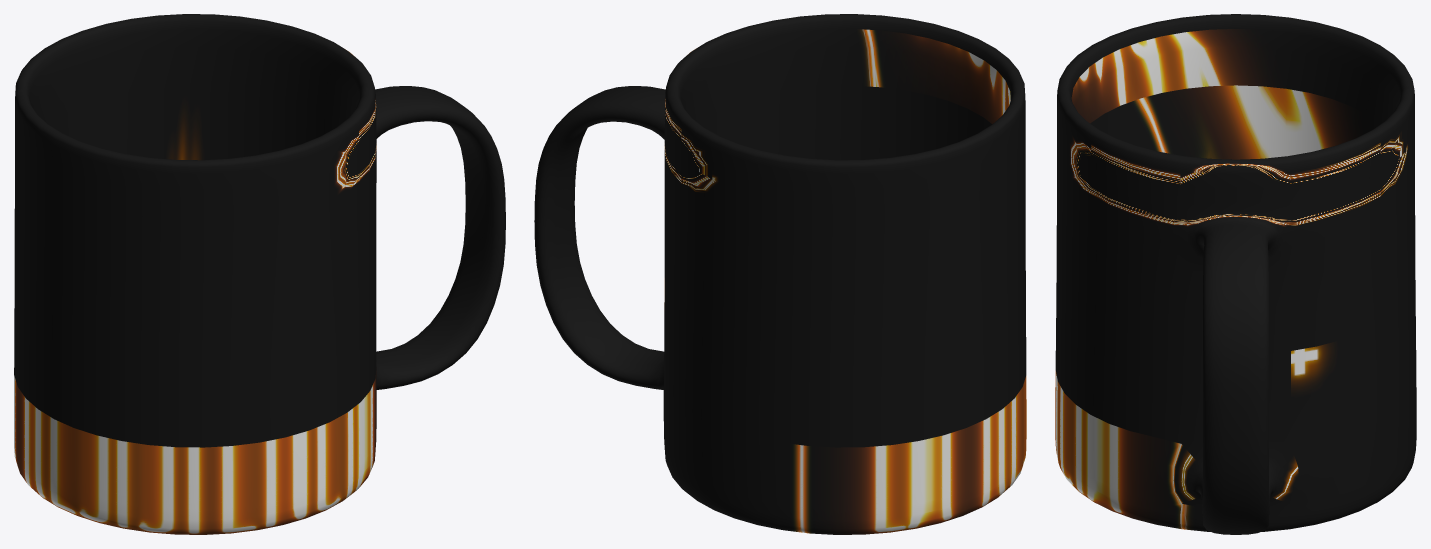
Rendered from SM_Taza_LaResistencia.fbx.
The picture shows the model from 3 angles, left to right: view 1: azimuth 30°, elevation 25°; view 2: azimuth 150°, elevation 25°; view 3: azimuth 270°, elevation 25°; orthographic projection.
Parts seen in each view (by area): view 1: Blender Mug; view 2: Blender Mug; view 3: Blender Mug.
Boxes of the visible parts, box(x1,y1,x2,y2) form: Blender Mug: box(14, 14, 505, 534); Blender Mug: box(534, 14, 1026, 534); Blender Mug: box(1055, 14, 1416, 534).
Bounding box in the file's own units: 0.1147 × 0.0895 × 0.0787.
1 material, 1 textured.
